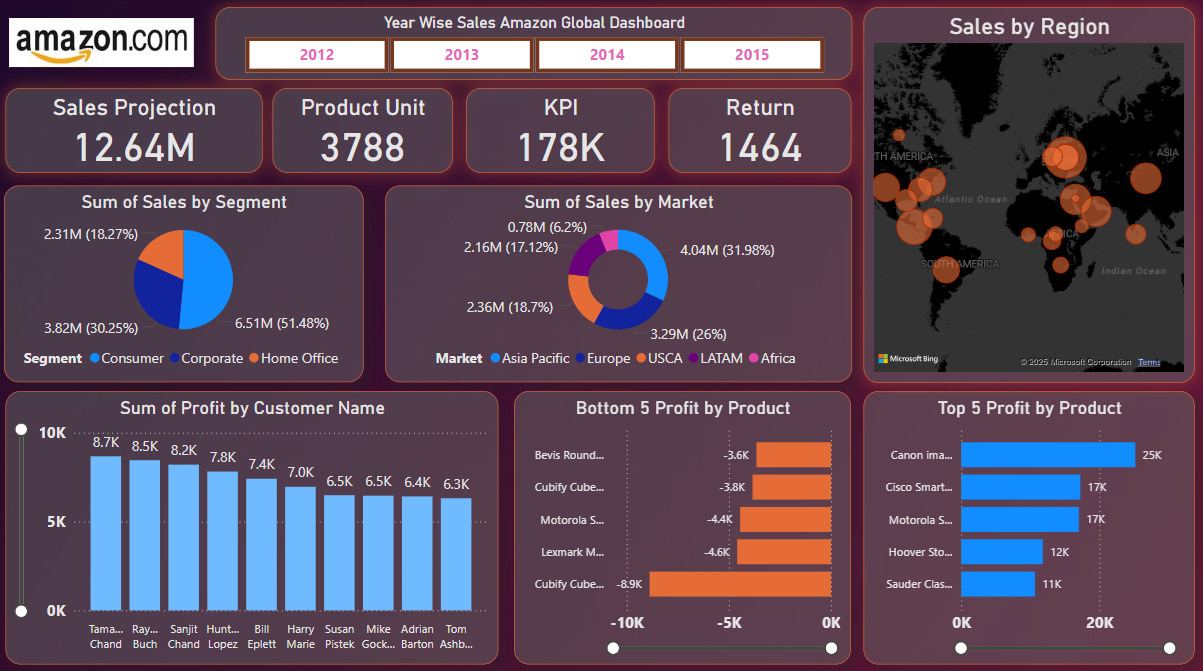

The page's visual inventory and layout, read from the dashboard file:
{"tool":"powerbi","page":{"name":"Page 1","canvas":[1280,720],"ordinal":0},"visuals":[{"type":"slicer","title":"Year Wise Sales Amazon Global Dashboard","fields":{"Values":["Orders.Year"]},"box":[230,8.8,675,77.5],"z":0},{"type":"card","title":"Sales Projection ","fields":{"Values":["Orders.Sales"]},"box":[7.5,95,272.5,90],"z":1000},{"type":"image","box":[7.1,16.3,206.1,62.2],"z":2000},{"type":"card","title":"Product Unit","fields":{"Values":["Orders.Product Name"]},"box":[291.2,95,191.2,90],"z":3000},{"type":"card","title":"KPI","fields":{"Values":["Orders.Quantity"]},"box":[496.2,95,200,90],"z":4000},{"type":"card","title":"Return","fields":{"Values":["Orders.Ship Date"]},"box":[711.2,95,193.8,90],"z":5000},{"type":"pieChart","fields":{"Category":["Orders.Segment"],"Y":["Orders.Sales"]},"box":[6.7,198.9,381.1,208.9],"z":6000},{"type":"donutChart","fields":{"Y":["Orders.Sales"],"Category":["Orders.Market"]},"box":[410,198.8,495,208.8],"z":7000},{"type":"columnChart","fields":{"Category":["Orders.Customer Name"],"Y":["Orders.Profit"]},"box":[7.5,416.2,522.5,290],"z":8000},{"type":"clusteredBarChart","title":"Bottom 5 Profit by Product","fields":{"Y":["Orders.Profit"],"Category":["Orders.Product Name"]},"box":[547.5,416.2,357.5,290],"z":9000},{"type":"clusteredBarChart","title":"Top 5 Profit by Product","fields":{"Y":["Orders.Profit"],"Category":["Orders.Product Name"]},"box":[917.5,416.2,351.2,290],"z":10000},{"type":"map","title":" Sales by Region","fields":{"Category":["Orders.Region"],"Size":["Orders.Sales"]},"box":[917.5,8.8,351.2,398.8],"z":11000}]}

Visuals, with their boxes in screenshot pixels (x1, y1, x2, y2), scaled from the page's 1280x720 canvas onto the 1203x671 screenshot:
"Year Wise Sales Amazon Global Dashboard" slicer: (x1=216, y1=8, x2=851, y2=80)
"Sales Projection " card: (x1=7, y1=89, x2=263, y2=172)
image: (x1=7, y1=15, x2=200, y2=73)
"Product Unit" card: (x1=274, y1=89, x2=453, y2=172)
"KPI" card: (x1=466, y1=89, x2=654, y2=172)
"Return" card: (x1=668, y1=89, x2=851, y2=172)
pieChart - Orders.Segment x Orders.Sales: (x1=6, y1=185, x2=364, y2=380)
donutChart - Orders.Sales x Orders.Market: (x1=385, y1=185, x2=851, y2=380)
columnChart - Orders.Customer Name x Orders.Profit: (x1=7, y1=388, x2=498, y2=658)
"Bottom 5 Profit by Product" clusteredBarChart: (x1=515, y1=388, x2=851, y2=658)
"Top 5 Profit by Product" clusteredBarChart: (x1=862, y1=388, x2=1192, y2=658)
" Sales by Region" map: (x1=862, y1=8, x2=1192, y2=380)
